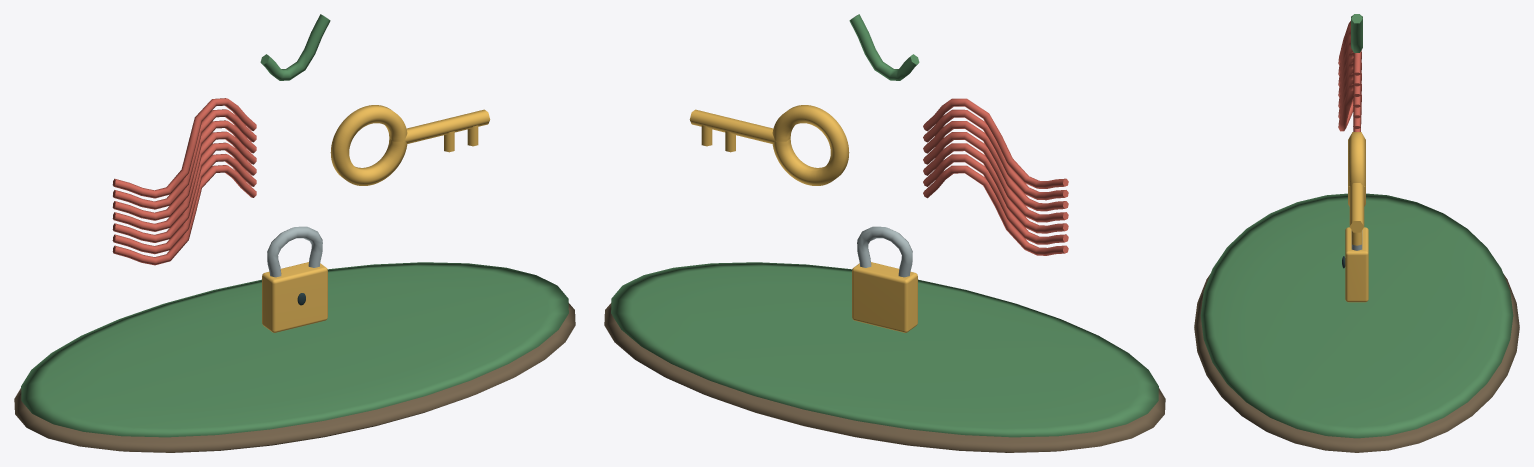
File: complete-first-untie-decide-solve.glb
The picture shows the model from 3 angles, left to right: view 1: azimuth 30°, elevation 25°; view 2: azimuth 150°, elevation 25°; view 3: azimuth 270°, elevation 25°; orthographic projection. The views are drawn at different scales.
Parts seen in each view (by area): view 1: complete-first-untie-decide-solve_surface_01, complete-first-untie-decide-solve_surface_02, complete-first-untie-decide-solve_surface_00, complete-first-untie-decide-solve_surface_03, complete-first-untie-decide-solve_surface_04; view 2: complete-first-untie-decide-solve_surface_01, complete-first-untie-decide-solve_surface_02, complete-first-untie-decide-solve_surface_00, complete-first-untie-decide-solve_surface_03, complete-first-untie-decide-solve_surface_04; view 3: complete-first-untie-decide-solve_surface_01, complete-first-untie-decide-solve_surface_00, complete-first-untie-decide-solve_surface_03, complete-first-untie-decide-solve_surface_02.
Boxes of the visible parts, x1,y1,x2,y2 form: complete-first-untie-decide-solve_surface_01: [21, 14, 568, 437]; complete-first-untie-decide-solve_surface_02: [112, 98, 256, 265]; complete-first-untie-decide-solve_surface_00: [14, 303, 575, 452]; complete-first-untie-decide-solve_surface_03: [262, 105, 490, 332]; complete-first-untie-decide-solve_surface_04: [267, 226, 322, 277]; complete-first-untie-decide-solve_surface_01: [611, 14, 1158, 437]; complete-first-untie-decide-solve_surface_02: [923, 98, 1068, 255]; complete-first-untie-decide-solve_surface_00: [604, 303, 1165, 452]; complete-first-untie-decide-solve_surface_03: [689, 105, 917, 332]; complete-first-untie-decide-solve_surface_04: [857, 226, 912, 277]; complete-first-untie-decide-solve_surface_01: [1200, 14, 1513, 438]; complete-first-untie-decide-solve_surface_00: [1194, 274, 1519, 452]; complete-first-untie-decide-solve_surface_03: [1345, 132, 1368, 302]; complete-first-untie-decide-solve_surface_02: [1338, 21, 1361, 131].
Size of the model in its own units: 4.56 by 2.89 by 2.5.
